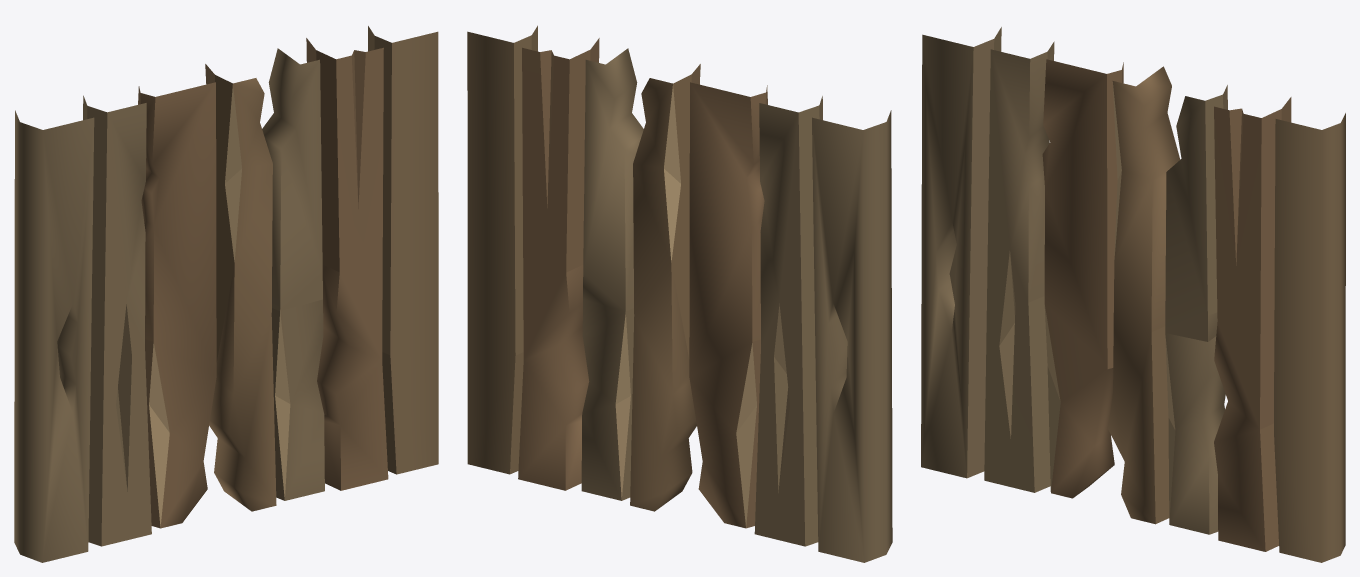
File: rpgpp_av_wall_02_3x3_a.gltf
3 renders of one model, left to right at view 1: azimuth 30°, elevation 25°; view 2: azimuth 150°, elevation 25°; view 3: azimuth 330°, elevation 25°, orthographic.
Parts seen in each view (by area): view 1: rpgpp_av_wall_02_3x3_a; view 2: rpgpp_av_wall_02_3x3_a; view 3: rpgpp_av_wall_02_3x3_a.
Part boxes in pixels (left/top/right/bottom): rpgpp_av_wall_02_3x3_a: left=14, top=26, right=438, bottom=562; rpgpp_av_wall_02_3x3_a: left=467, top=25, right=892, bottom=562; rpgpp_av_wall_02_3x3_a: left=921, top=27, right=1345, bottom=562.
Bounding box in the file's own units: 0.03 × 0.03 × 0.00378.
Materials: 1 (1 with a texture image).
